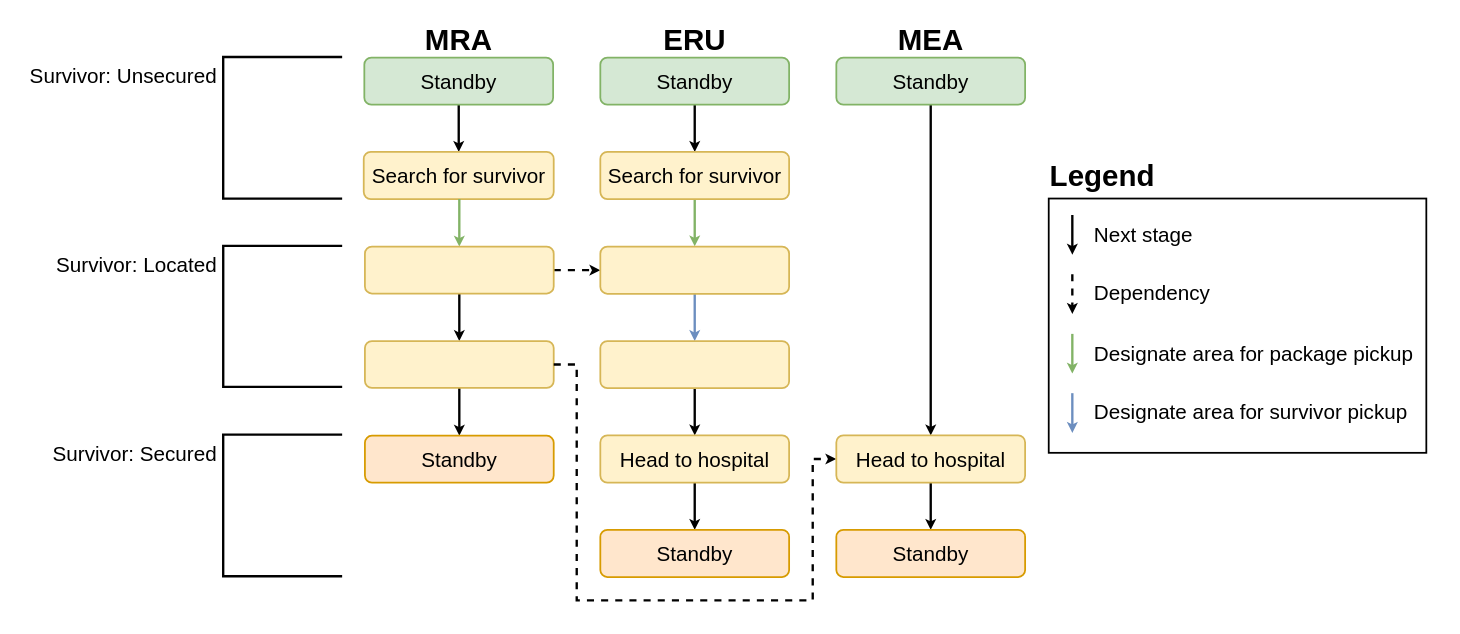
Some shapes in this 1460 by 634 pixel diagram are drawn without their labels. Here are the shapes that lost their labels. From the top down, the centre of each, then its label:
(x=459, y=269): Drop package
(x=694, y=269): Pickup package
(x=459, y=364): Return to base
(x=694, y=364): Pickup survivor
